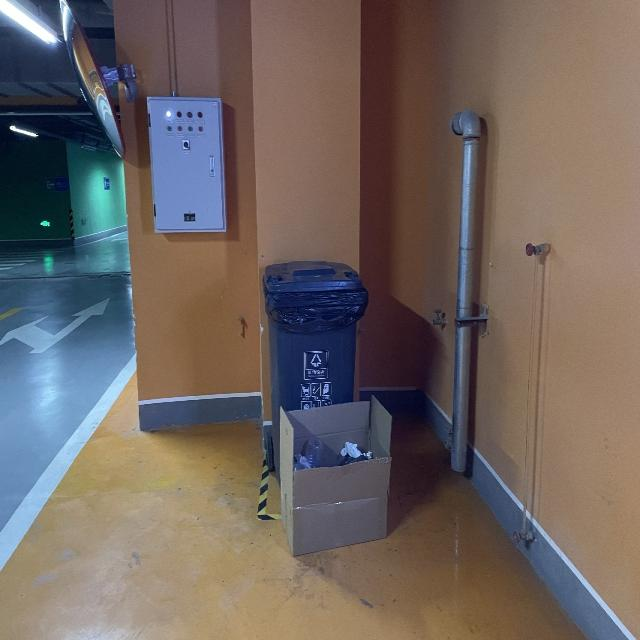garbage: (279, 394, 392, 557)
garbage_bin: (261, 258, 367, 485)
